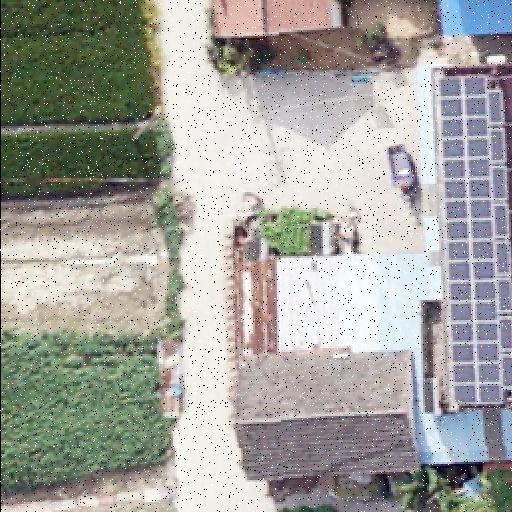solar-panel: (420, 66, 512, 423)
